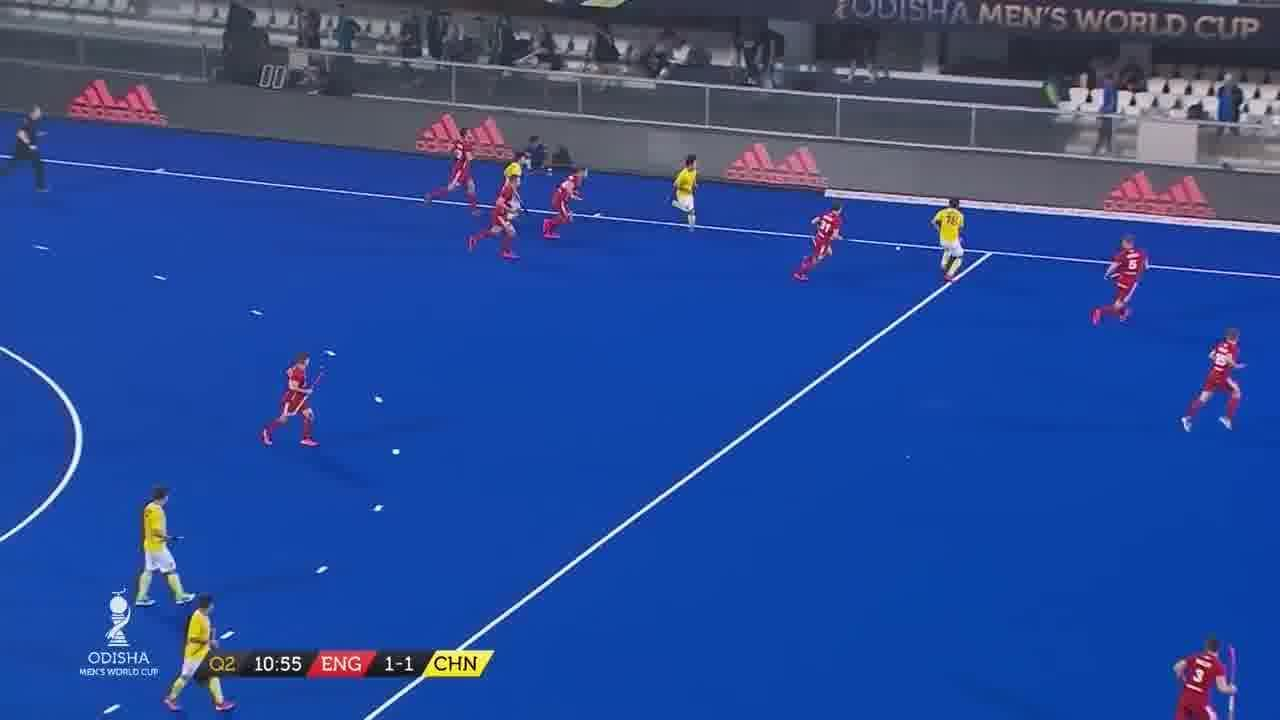ball: (890, 245, 907, 257)
